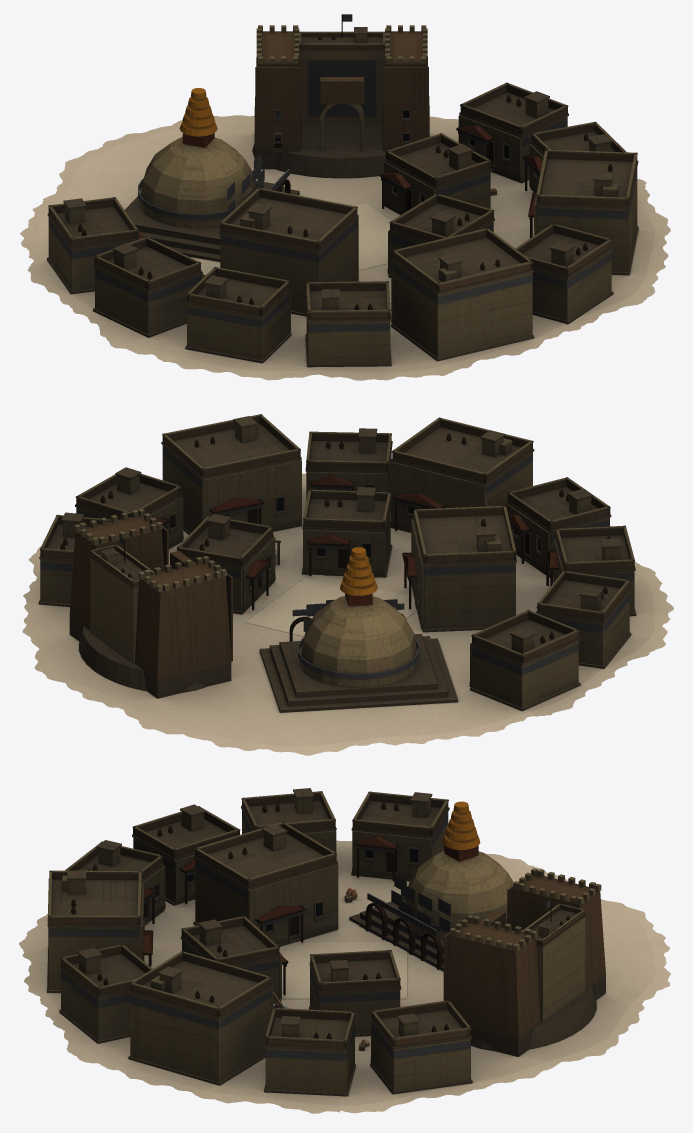
File: classical-town-medium-b-steppe-bcccb20e.glb
3 renders of one model, top to bottom at view 1: azimuth 30°, elevation 25°; view 2: azimuth 150°, elevation 25°; view 3: azimuth 270°, elevation 25°, orthographic.
Parts seen in each view (by area): view 1: LOD0; view 2: LOD0; view 3: LOD0.
Part boxes in pixels (x1,y1,x2,y2): LOD0: (20, 14, 670, 380); LOD0: (22, 414, 673, 755); LOD0: (19, 788, 670, 1113).
Size of what is drawn, in the model's own units: 5.99 by 1.27 by 5.95.
Materials: 3 (3 with a texture image).
